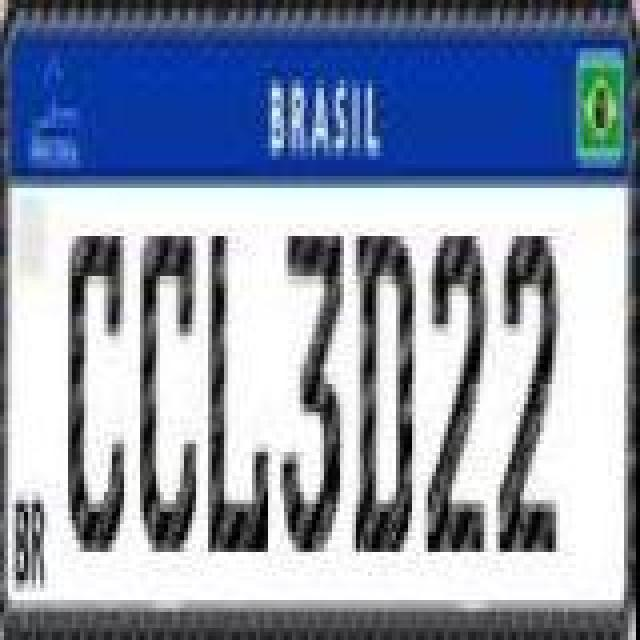2: (422, 232, 486, 568), (494, 224, 558, 560)
3: (276, 230, 344, 554)
C: (68, 230, 128, 554), (140, 230, 200, 554)
D: (354, 224, 418, 560)
L: (206, 230, 270, 554)
